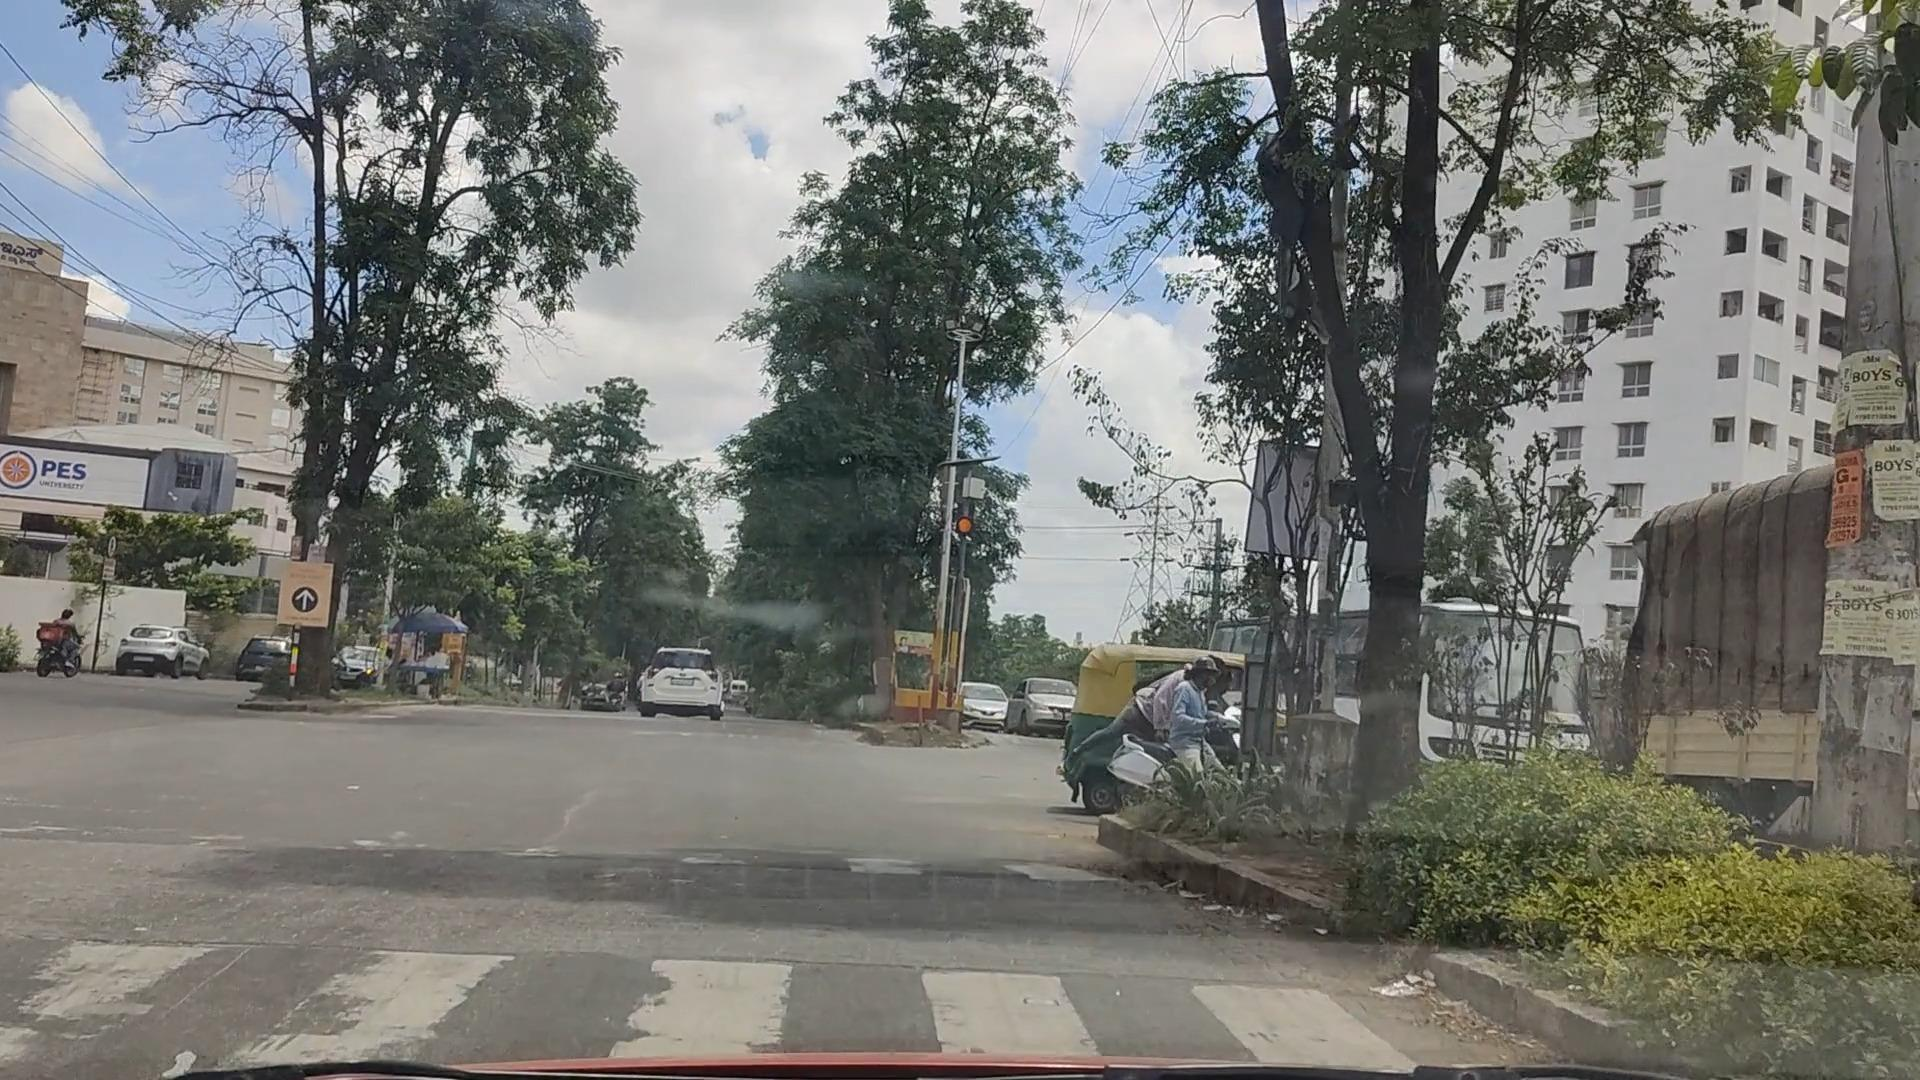SpeedBump: (0, 833, 1402, 1054)
